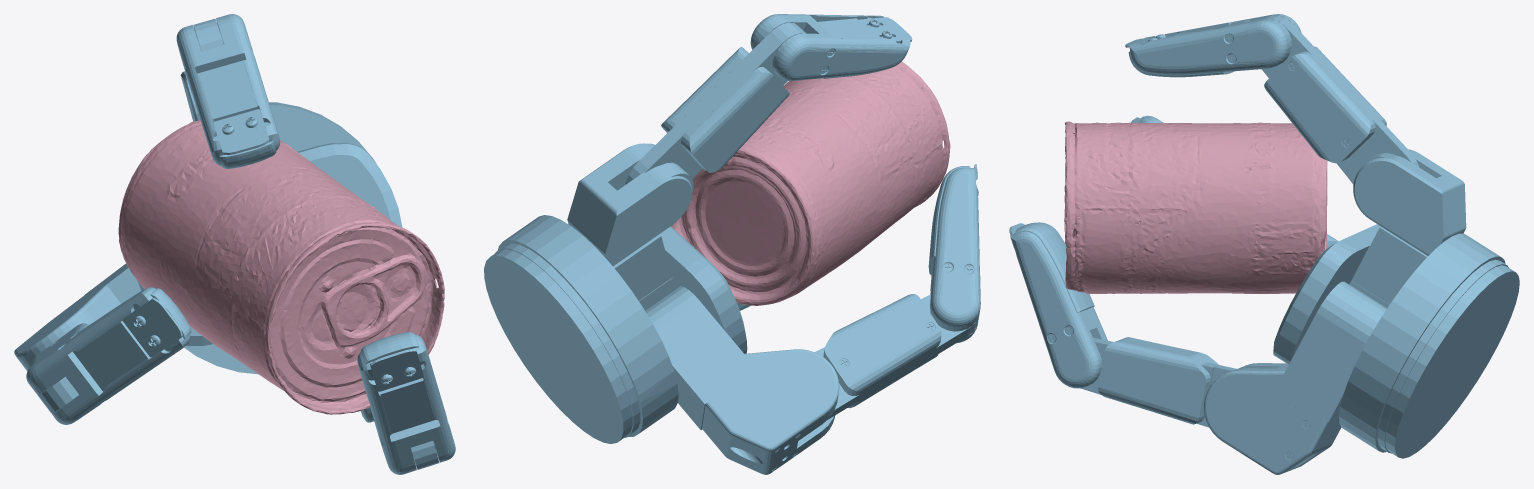
The picture shows the model from 3 angles, left to right: view 1: azimuth 30°, elevation 25°; view 2: azimuth 150°, elevation 25°; view 3: azimuth 270°, elevation 25°; orthographic projection. The views are drawn at different scales.
Parts seen in each view (by area): view 1: tomato_soup_can.stl, world; view 2: world, tomato_soup_can.stl; view 3: world, tomato_soup_can.stl.
Boxes of the visible parts, left/top/right/bottom form: tomato_soup_can.stl: left=118, top=120, right=444, bottom=414; world: left=14, top=14, right=455, bottom=474; world: left=484, top=14, right=980, bottom=474; tomato_soup_can.stl: left=671, top=61, right=950, bottom=305; world: left=1009, top=14, right=1519, bottom=474; tomato_soup_can.stl: left=1064, top=121, right=1327, bottom=293.
Bounding box in the file's own units: 0.1748 × 0.1637 × 0.1978.
